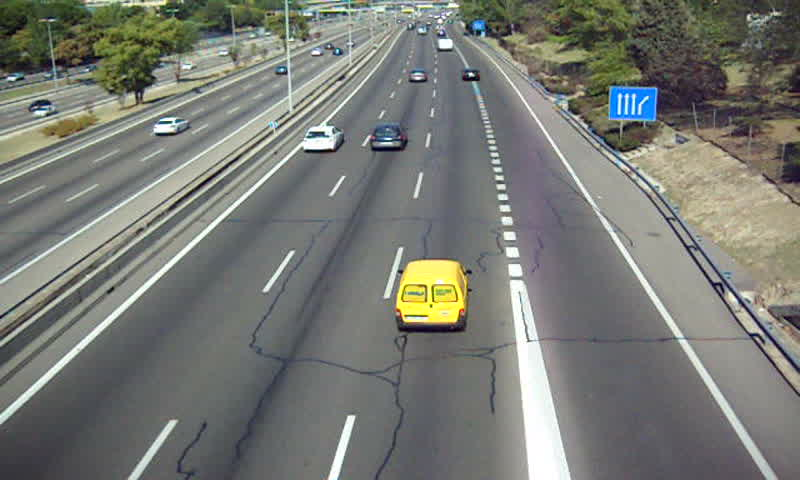car: (304, 125, 344, 150), (370, 125, 407, 151), (408, 68, 429, 84), (461, 68, 482, 82)
van: (396, 260, 466, 331)
